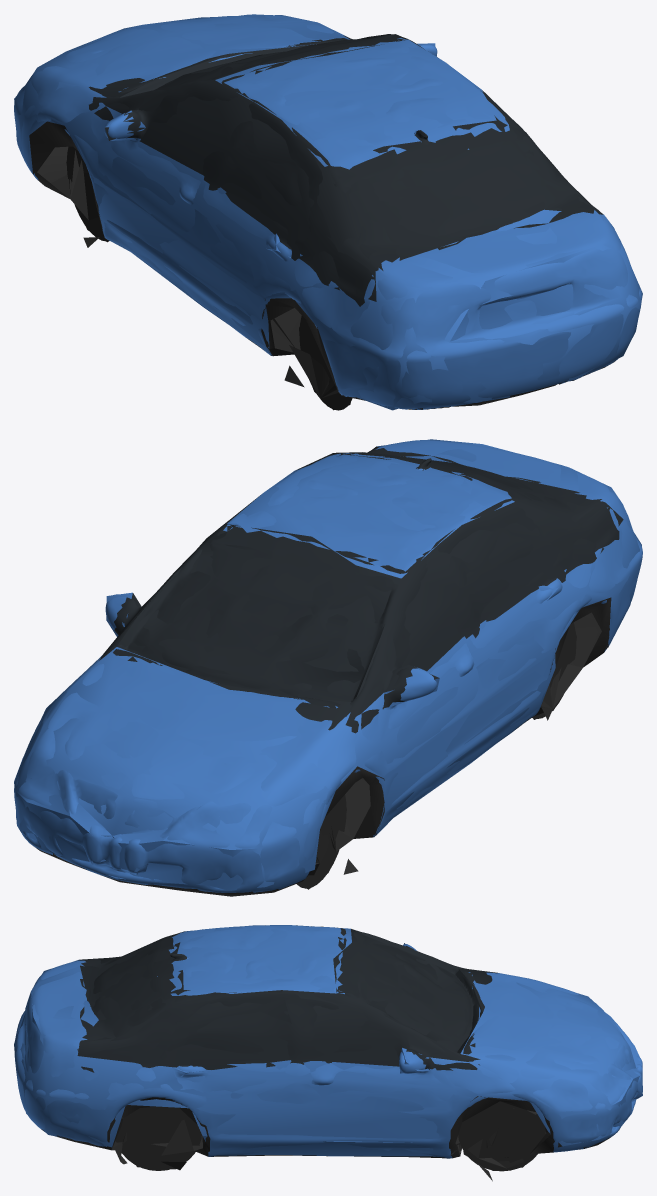
Rendered from acura-rl.glb.
The picture shows the model from 3 angles, top to bottom: view 1: azimuth 30°, elevation 25°; view 2: azimuth 150°, elevation 25°; view 3: azimuth 270°, elevation 25°; orthographic projection. The views are drawn at different scales.
Parts seen in each view (by area): view 1: body, far; view 2: body, far; view 3: body, far.
Part boxes in pixels (x1,y1,x2,y2): body: (14,14,641,410); far: (14,15,642,410); body: (14,440,642,896); far: (14,439,641,890); body: (14,925,642,1181); far: (14,925,642,1170).
Bounding box in the file's own units: 2.24 × 1.55 × 4.94.
